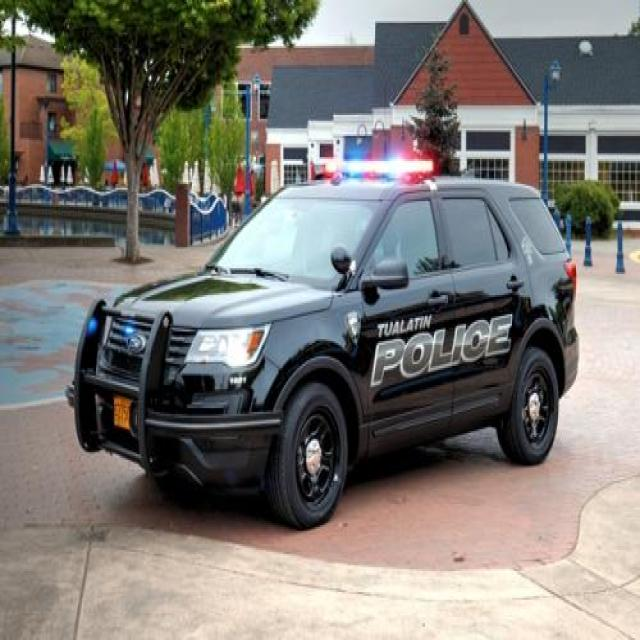cop: (64, 158, 582, 526)
